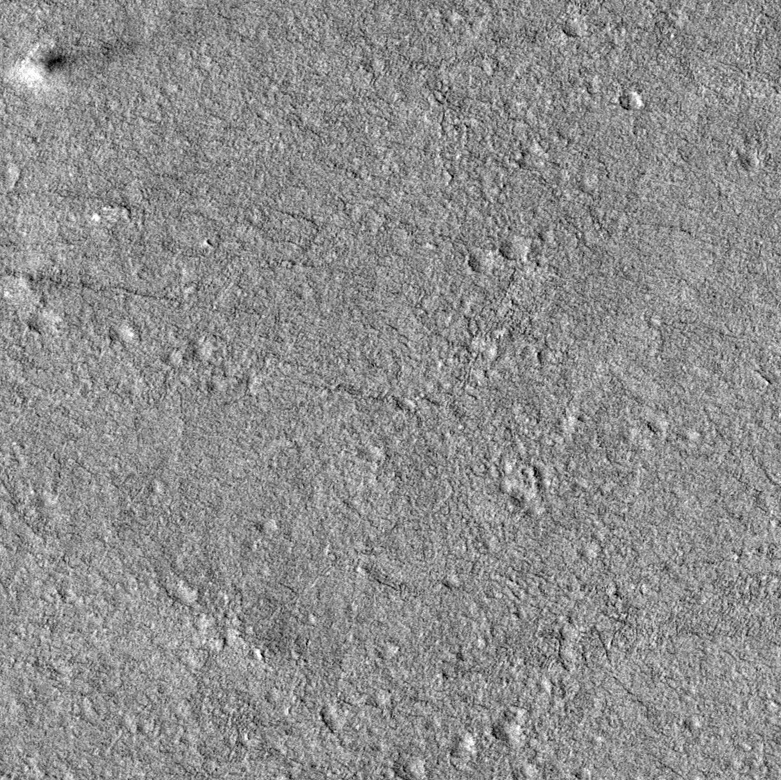dust_devil: (11, 36, 141, 94)
